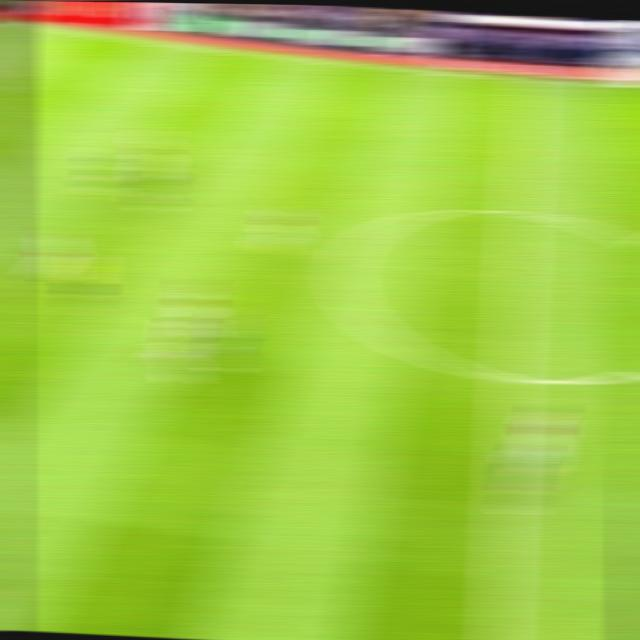bigarea_top_inner: (0, 73, 27, 97)
halfcircle_bottom: (485, 354, 534, 398)
halfcircle_top: (493, 191, 543, 231)
midline_top_intersection: (503, 60, 550, 99), (506, 67, 547, 94)
